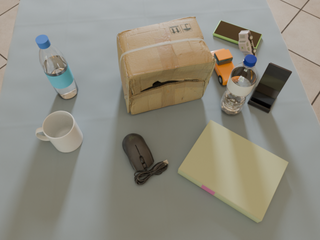book: (178, 120, 288, 223)
bottle: (36, 35, 78, 99), (220, 55, 257, 115)
box: (117, 17, 216, 114)
cup: (36, 111, 83, 152)
mouse: (122, 134, 168, 185)
phone: (251, 63, 292, 108), (213, 21, 262, 48)
toy_car: (211, 49, 235, 85), (238, 30, 256, 57)
